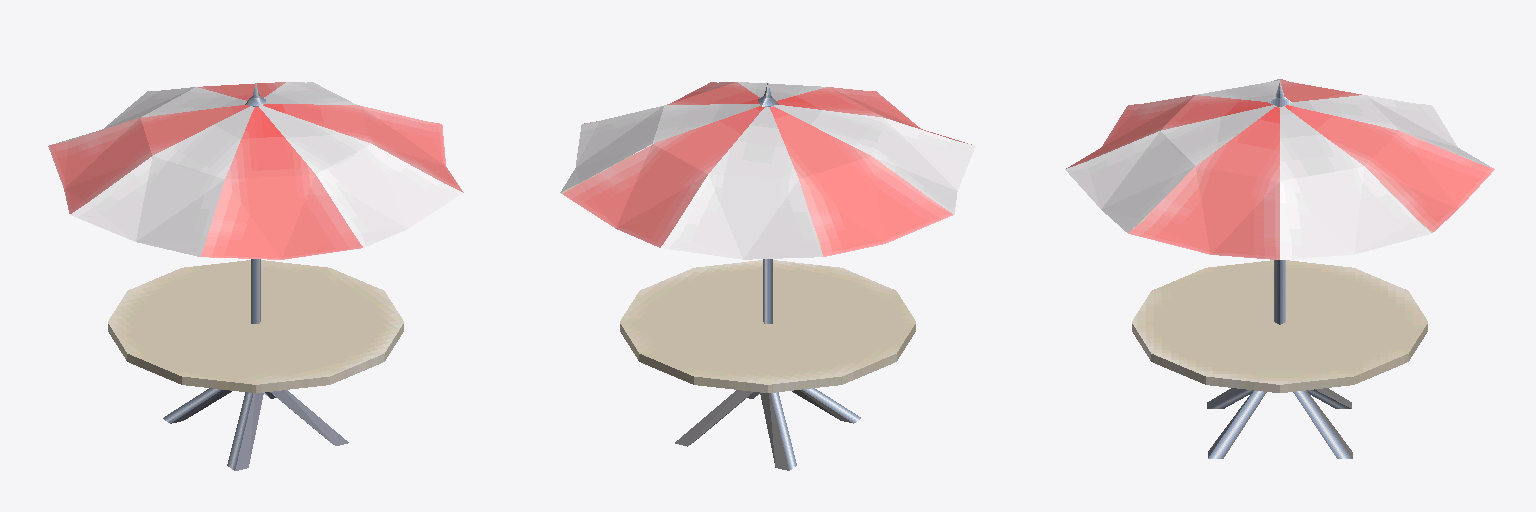
3 renders of one model, left to right at view 1: azimuth 30°, elevation 25°; view 2: azimuth 150°, elevation 25°; view 3: azimuth 270°, elevation 25°, orthographic.
Parts seen in each view (by area): view 1: DB:>PERSO>P_PATIO_TABLE>MESH_PWP>P_PATIO_TABLE_MESH_MESH.TMESH; view 2: DB:>PERSO>P_PATIO_TABLE>MESH_PWP>P_PATIO_TABLE_MESH_MESH.TMESH; view 3: DB:>PERSO>P_PATIO_TABLE>MESH_PWP>P_PATIO_TABLE_MESH_MESH.TMESH.
Part boxes in pixels (bbox=[...]): DB:>PERSO>P_PATIO_TABLE>MESH_PWP>P_PATIO_TABLE_MESH_MESH.TMESH: bbox=[48, 82, 463, 470]; DB:>PERSO>P_PATIO_TABLE>MESH_PWP>P_PATIO_TABLE_MESH_MESH.TMESH: bbox=[560, 82, 975, 470]; DB:>PERSO>P_PATIO_TABLE>MESH_PWP>P_PATIO_TABLE_MESH_MESH.TMESH: bbox=[1065, 79, 1494, 458].
Size of the model in its own units: 28.31 by 25.36 by 28.31.
Materials: 1 (1 with a texture image).